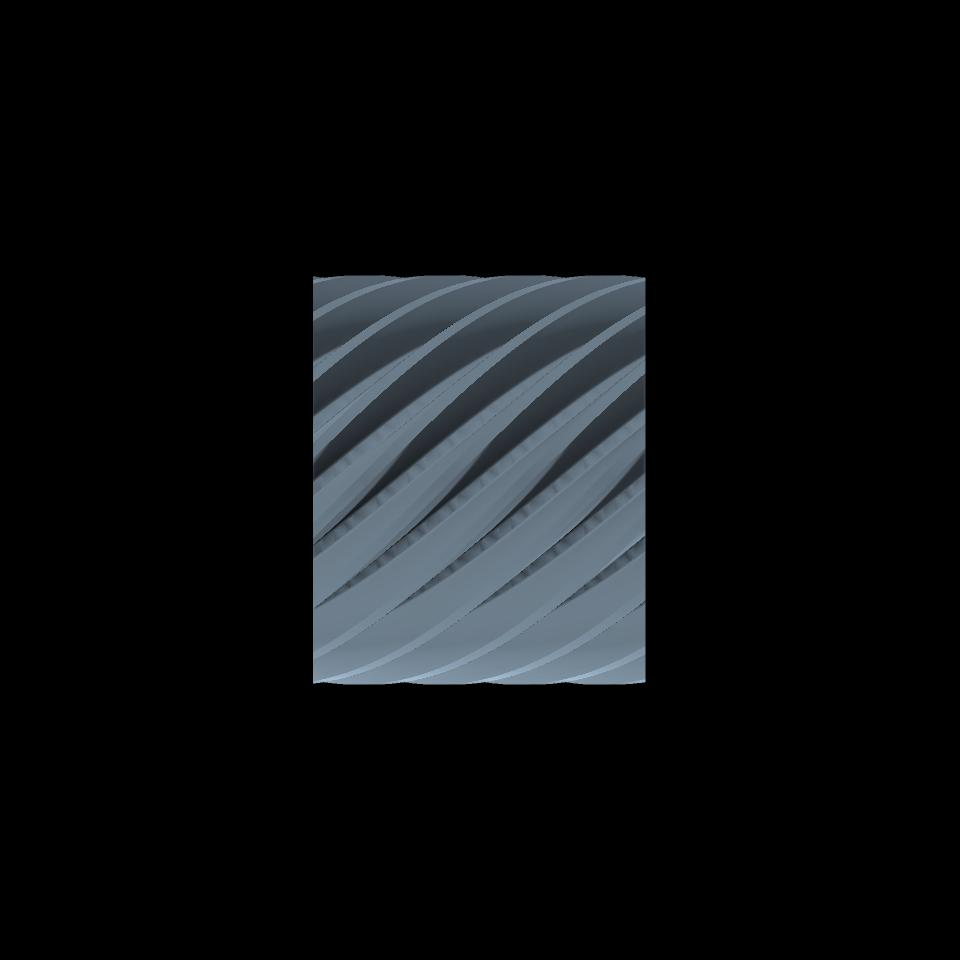Helical: (312, 276, 645, 684)
